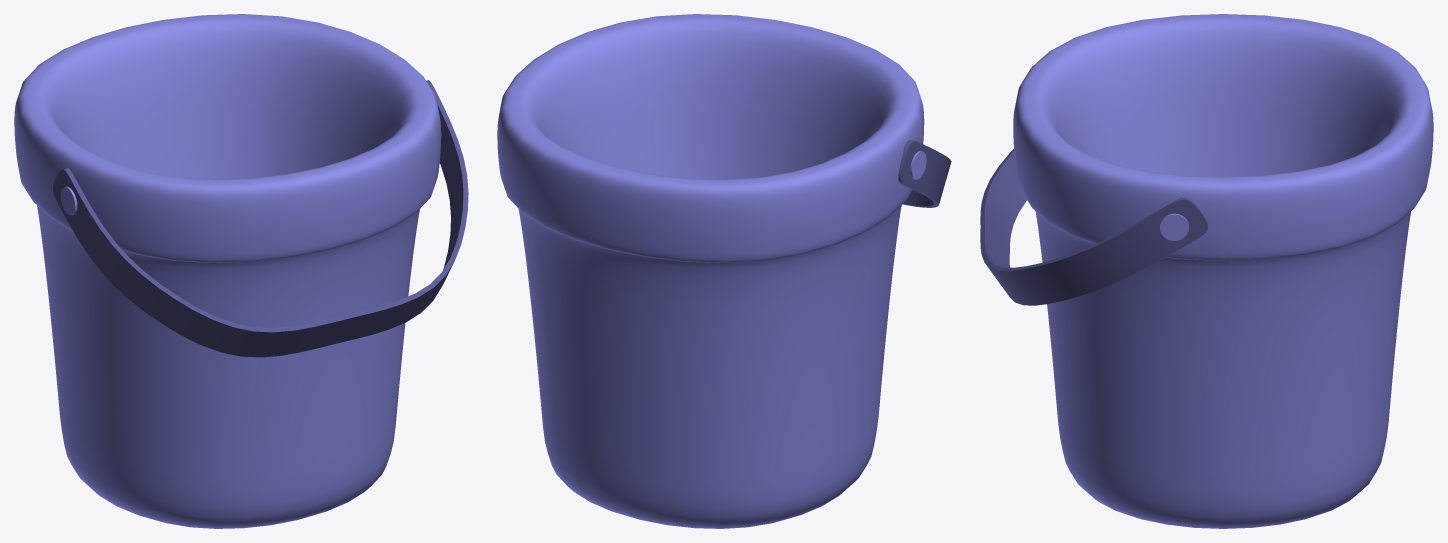
Rendered from busket.fbx.
3 renders of one model, left to right at view 1: azimuth 30°, elevation 25°; view 2: azimuth 150°, elevation 25°; view 3: azimuth 270°, elevation 25°, orthographic.
Visible parts, largest first — view 1: Cube, Plane; view 2: Cube, Plane; view 3: Cube, Plane, Cylinder.
Boxes of the visible parts, x1=… form: Cube: x1=14, y1=14, x2=441, y2=528; Plane: x1=53, y1=80, x2=468, y2=357; Cube: x1=497, y1=14, x2=924, y2=528; Plane: x1=898, y1=140, x2=951, y2=207; Cube: x1=1013, y1=14, x2=1433, y2=528; Plane: x1=980, y1=149, x2=1207, y2=305; Cylinder: x1=1160, y1=213, x2=1188, y2=240.
Bounding box in the file's own units: 242 × 238 × 256.
